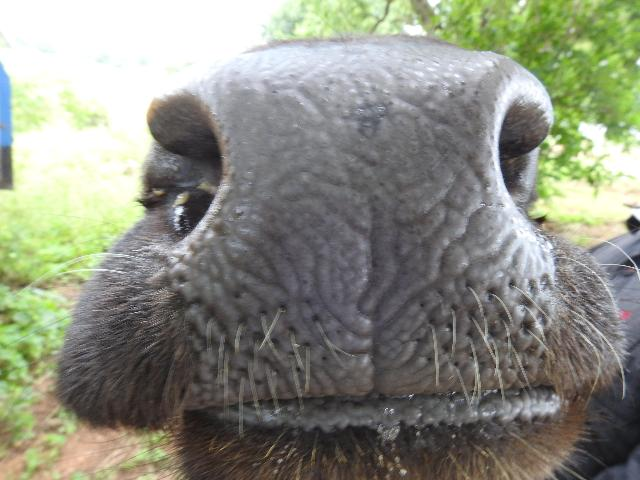Muzzle: (224, 72, 490, 370)
